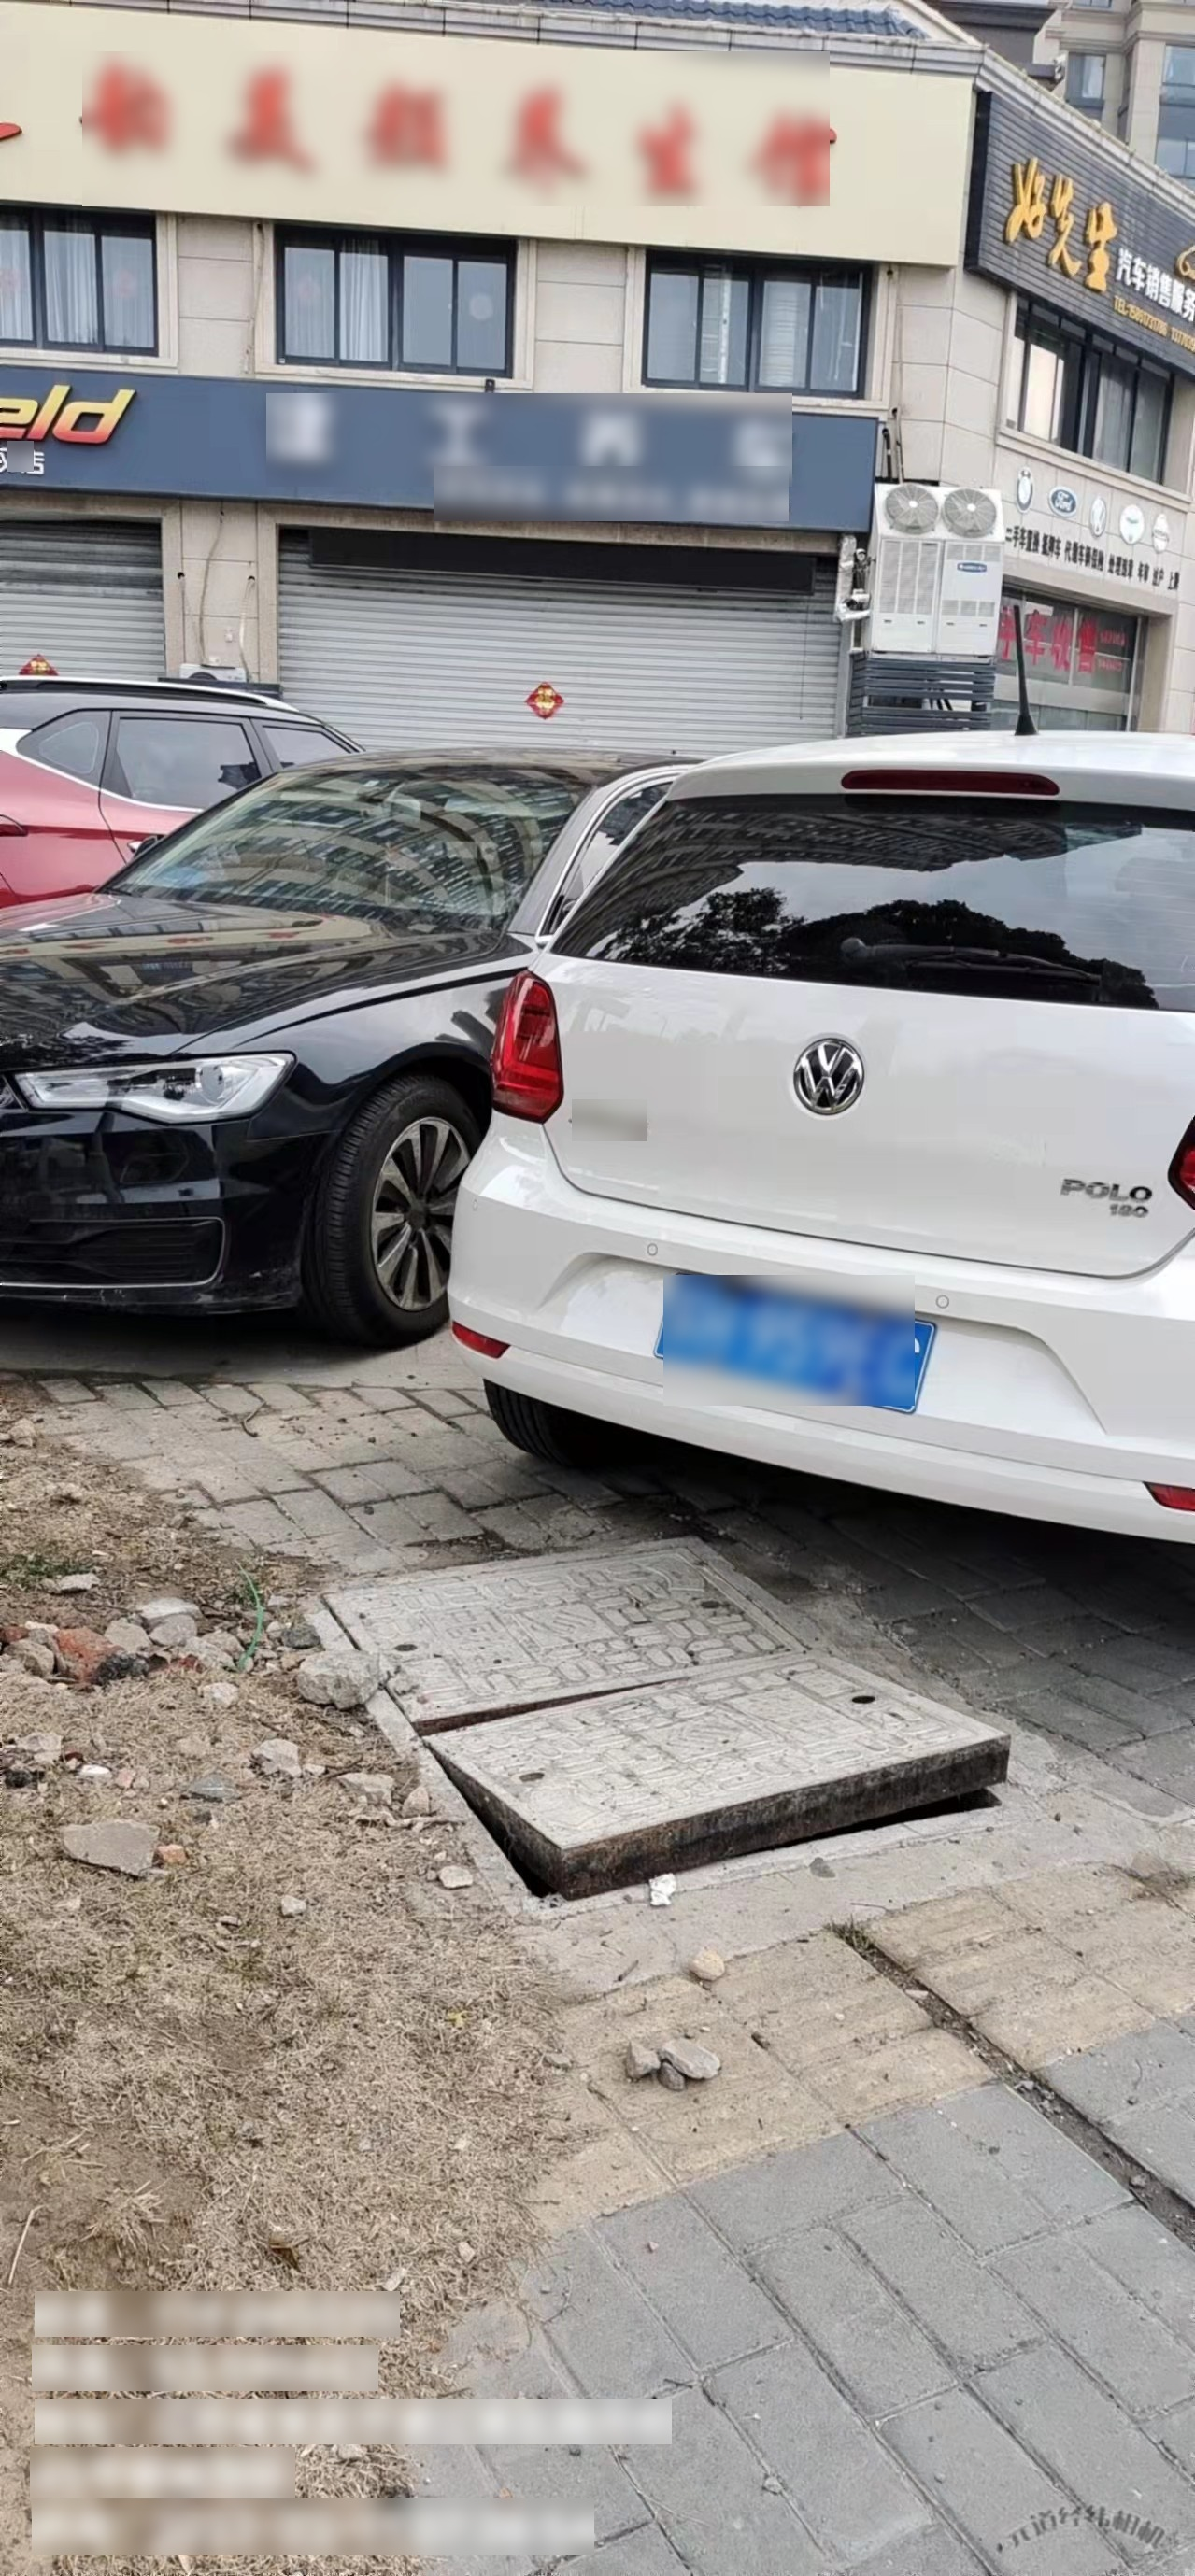well: (312, 1544, 1019, 1911)
